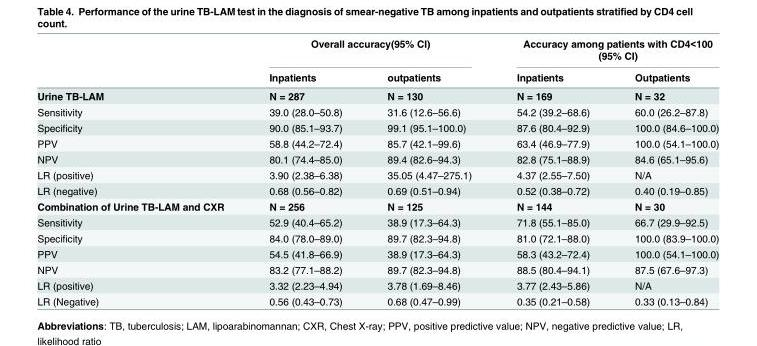table: (36, 37, 718, 306)
table column: (36, 37, 245, 306), (364, 37, 493, 306), (245, 37, 364, 306), (493, 37, 611, 306), (611, 37, 718, 306)
table column header: (36, 37, 718, 86)
table row: (36, 37, 718, 65), (36, 65, 718, 86), (36, 86, 718, 103), (36, 103, 718, 119), (36, 119, 718, 135), (36, 135, 718, 151), (36, 166, 718, 182), (36, 182, 718, 198), (36, 198, 718, 214), (36, 229, 718, 245), (36, 245, 718, 261), (36, 261, 718, 277), (36, 277, 718, 293), (36, 151, 718, 166), (36, 214, 718, 229), (36, 293, 718, 306)
table spanning cell: (245, 37, 493, 65), (493, 37, 718, 65)
